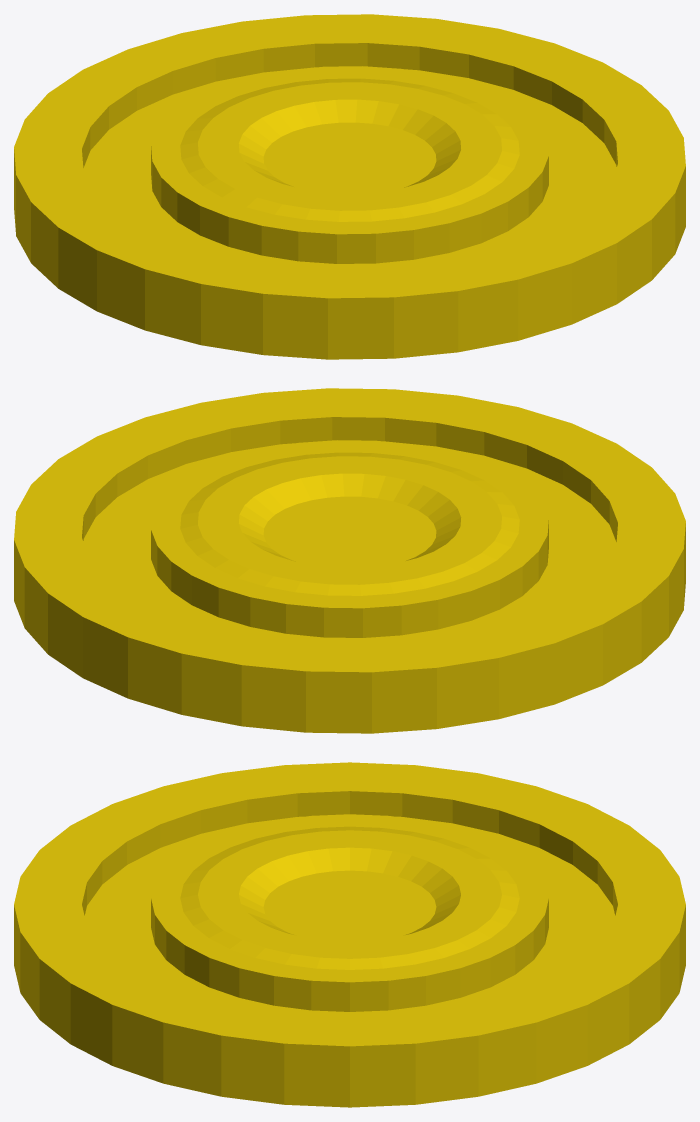
File: coin.fbx
The picture shows the model from 3 angles, top to bottom: view 1: azimuth 30°, elevation 25°; view 2: azimuth 150°, elevation 25°; view 3: azimuth 270°, elevation 25°; orthographic projection.
Parts seen in each view (by area): view 1: Cylinder; view 2: Cylinder; view 3: Cylinder.
Boxes of the visible parts, x1,y1,x2,y2 form: Cylinder: (14, 14, 685, 359); Cylinder: (14, 388, 685, 733); Cylinder: (14, 762, 685, 1107).
Bounding box in the file's own units: 200 × 26.5 × 200.
